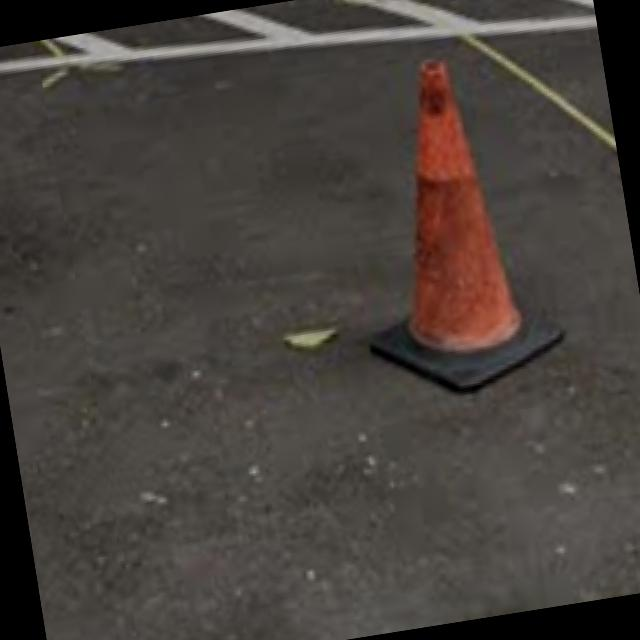cone: (346, 29, 562, 408)
